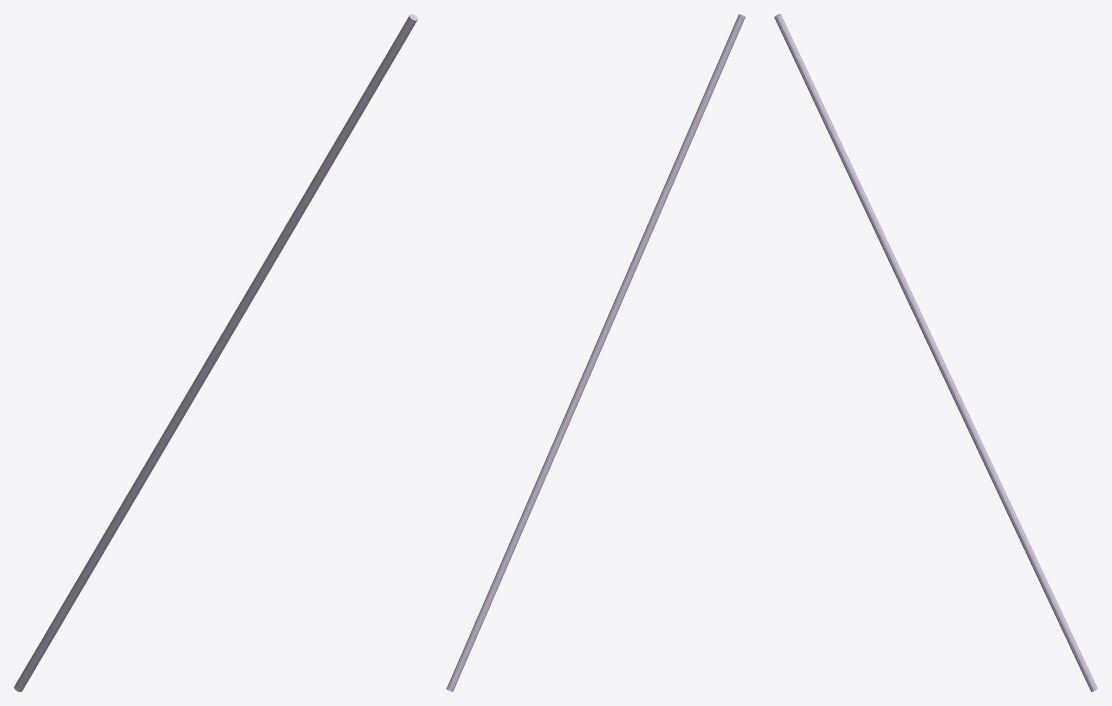
Rendered from tile_497.glb.
3 views of the same model, side by side, from view 1: azimuth 90°, elevation 25°; view 2: azimuth 150°, elevation 25°; view 3: azimuth 270°, elevation 25° (orthographic). The views are drawn at different scales.
Size of the model in its own units: 5.58 by 22.23 by 10.7.
